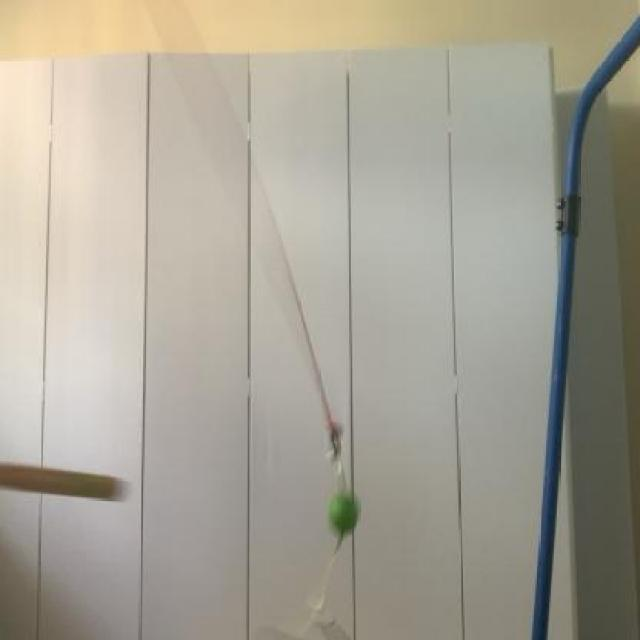baseball: (325, 477, 364, 543)
